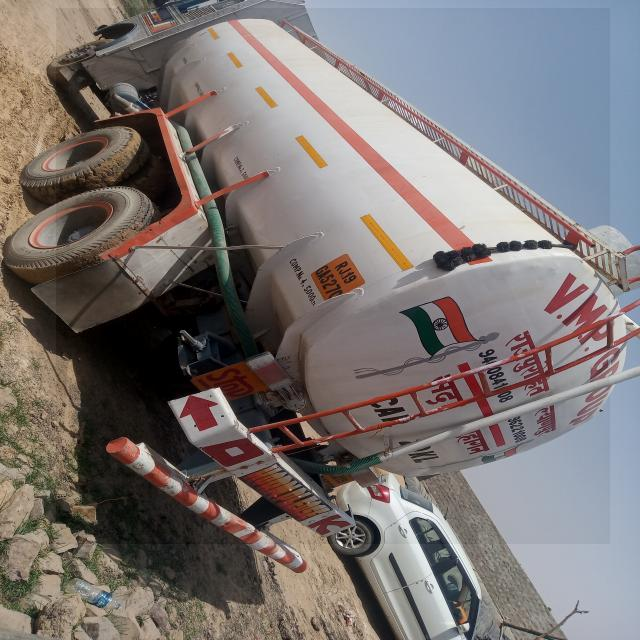Truck: (56, 8, 610, 544)
